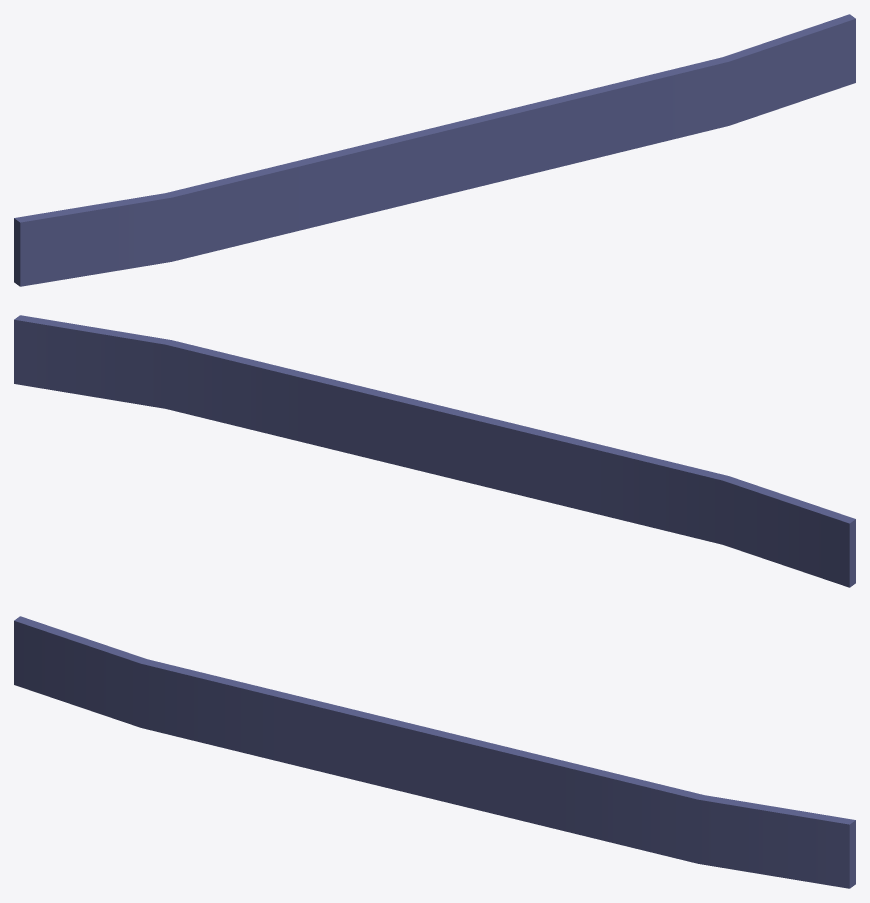
File: basicWall_1.fbx
The picture shows the model from 3 angles, top to bottom: view 1: azimuth 30°, elevation 25°; view 2: azimuth 150°, elevation 25°; view 3: azimuth 330°, elevation 25°; orthographic projection.
Parts seen in each view (by area): view 1: basicWall_1; view 2: basicWall_1; view 3: basicWall_1.
Part boxes in pixels (<box>): basicWall_1: <box>14,14,855,286</box>; basicWall_1: <box>14,315,855,587</box>; basicWall_1: <box>14,616,855,888</box>.
Size of the model in its own units: 504 by 37 by 19.37.
